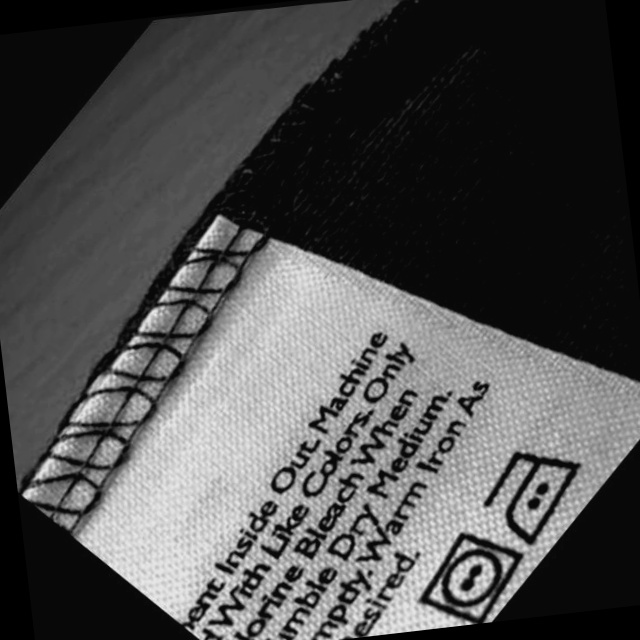iron_medium: (480, 442, 596, 547)
tumble_dry_medium: (414, 527, 533, 628)
